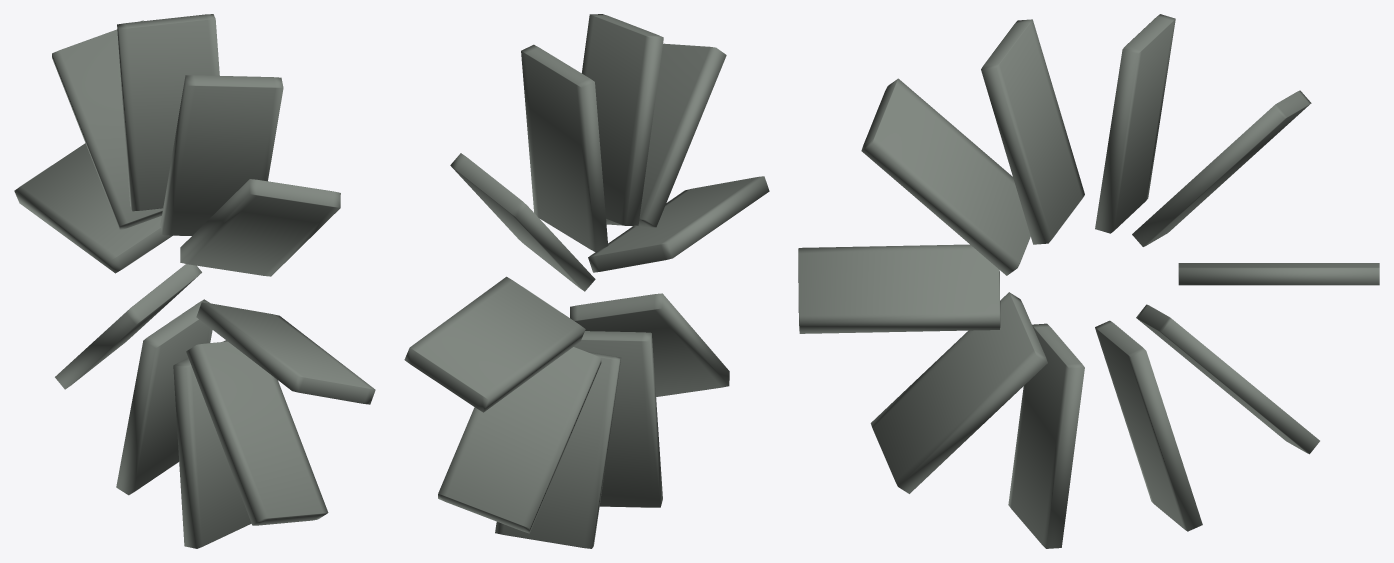
The model's file is helicopter_tail_rotor.glb.
3 renders of one model, left to right at view 1: azimuth 30°, elevation 25°; view 2: azimuth 150°, elevation 25°; view 3: azimuth 270°, elevation 25°, orthographic. The views are drawn at different scales.
Parts seen in each view (by area): view 1: static_rotor2_Mat_maverick.012_ec135.bmp_0; view 2: static_rotor2_Mat_maverick.012_ec135.bmp_0; view 3: static_rotor2_Mat_maverick.012_ec135.bmp_0.
Boxes of the visible parts, <box> form: static_rotor2_Mat_maverick.012_ec135.bmp_0: <box>14,14,375,548</box>; static_rotor2_Mat_maverick.012_ec135.bmp_0: <box>404,14,769,548</box>; static_rotor2_Mat_maverick.012_ec135.bmp_0: <box>798,14,1379,548</box>.
Size of the model in its own units: 0.1806 by 0.9845 by 1.04.
Materials: 1 (1 with a texture image).
